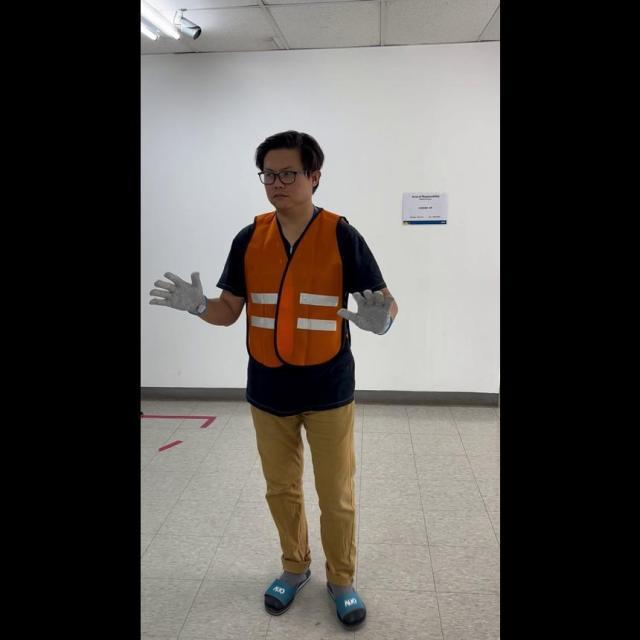gloved_hand: (334, 283, 397, 334), (147, 266, 209, 317)
